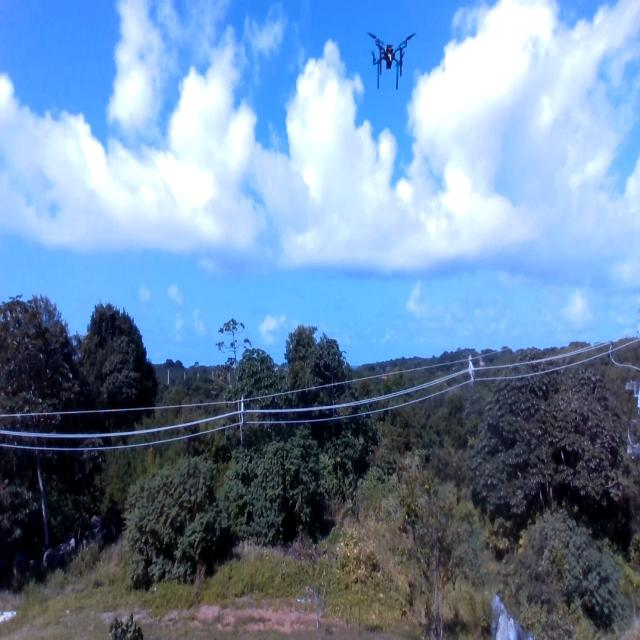-uav-: (360, 24, 420, 102)
